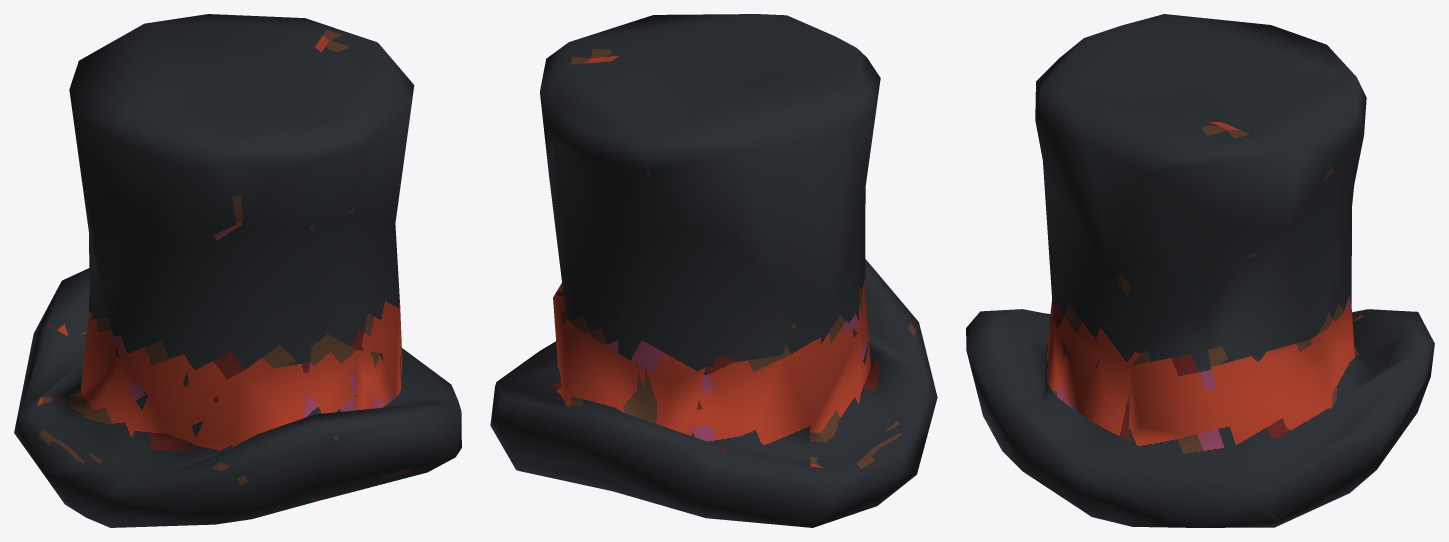
File: hat-top.glb
3 views of the same model, side by side, from view 1: azimuth 30°, elevation 25°; view 2: azimuth 150°, elevation 25°; view 3: azimuth 270°, elevation 25° (orthographic). The views are drawn at different scales.
Parts seen in each view (by area): view 1: tripo_node_919c35c9-e118-43e2-b817-4f0f212334aa; view 2: tripo_node_919c35c9-e118-43e2-b817-4f0f212334aa; view 3: tripo_node_919c35c9-e118-43e2-b817-4f0f212334aa.
Boxes of the visible parts, box(x1,y1,x2,y2) form: tripo_node_919c35c9-e118-43e2-b817-4f0f212334aa: box(14, 14, 461, 527); tripo_node_919c35c9-e118-43e2-b817-4f0f212334aa: box(490, 14, 937, 527); tripo_node_919c35c9-e118-43e2-b817-4f0f212334aa: box(966, 14, 1434, 527).
Bounding box in the file's own units: 0.9033 × 0.8862 × 0.9835.
Materials: 1 (1 with a texture image).
